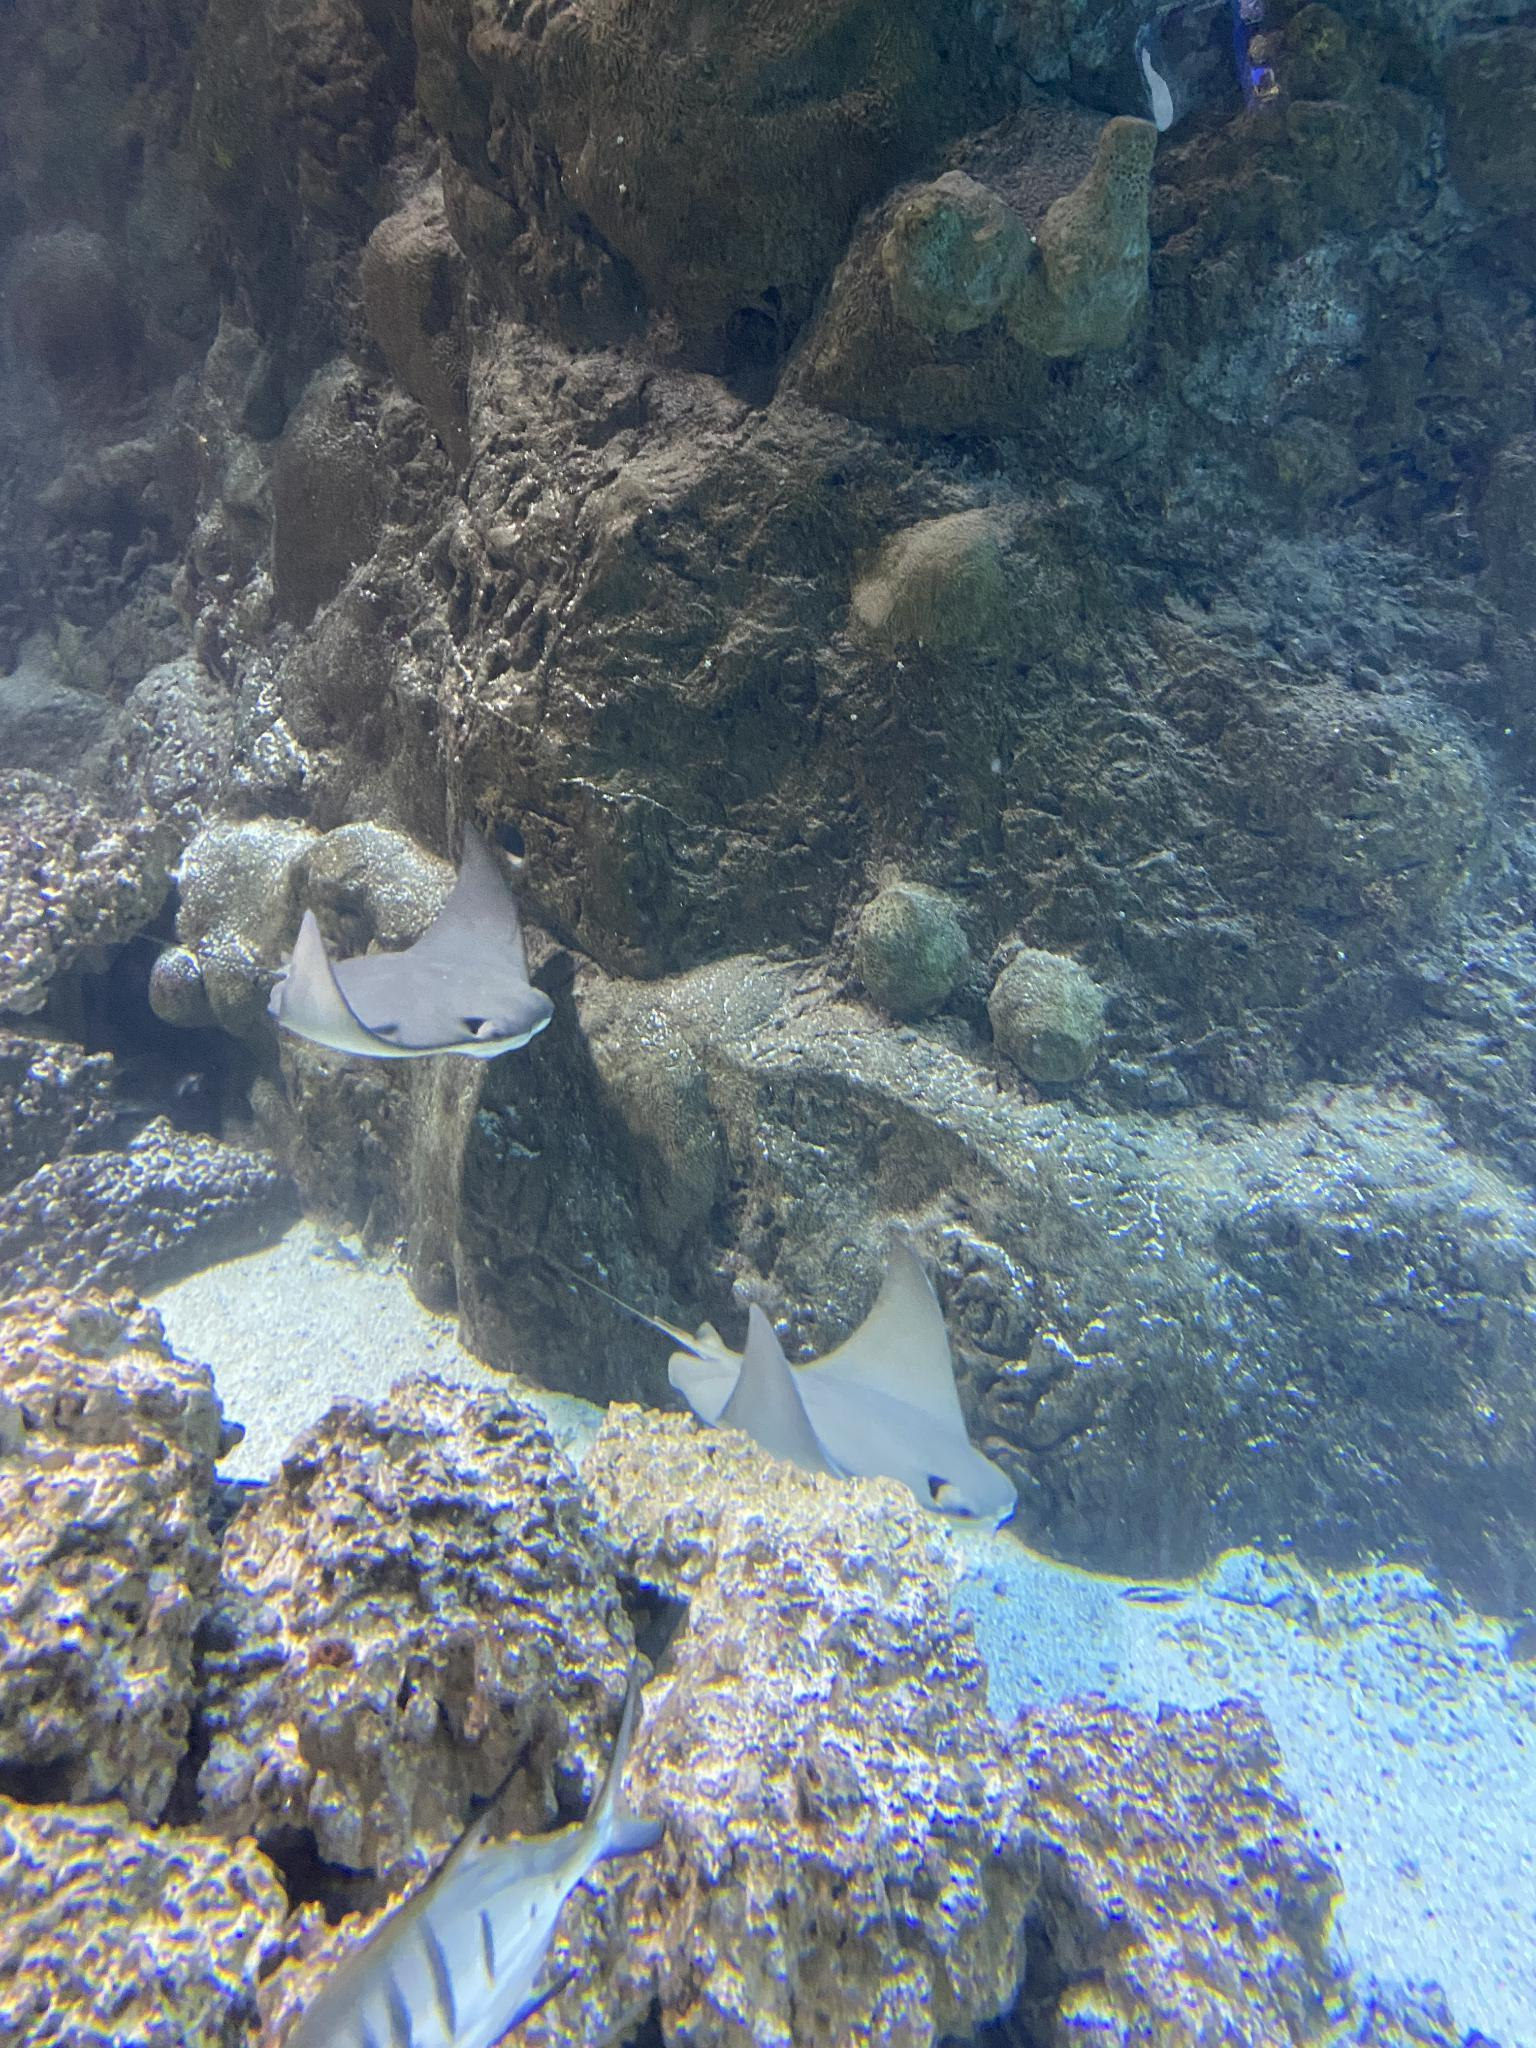fish: (282, 1651, 665, 2046)
stingray: (666, 1221, 1020, 1540), (269, 819, 552, 1058)
